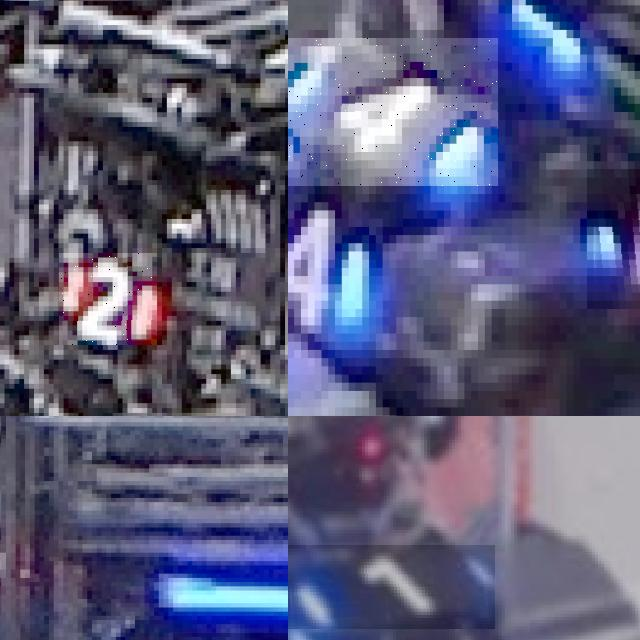B1: (288, 545, 495, 629)
B4: (288, 38, 498, 185), (288, 193, 369, 325), (586, 169, 640, 308)
R2: (59, 253, 157, 345)
